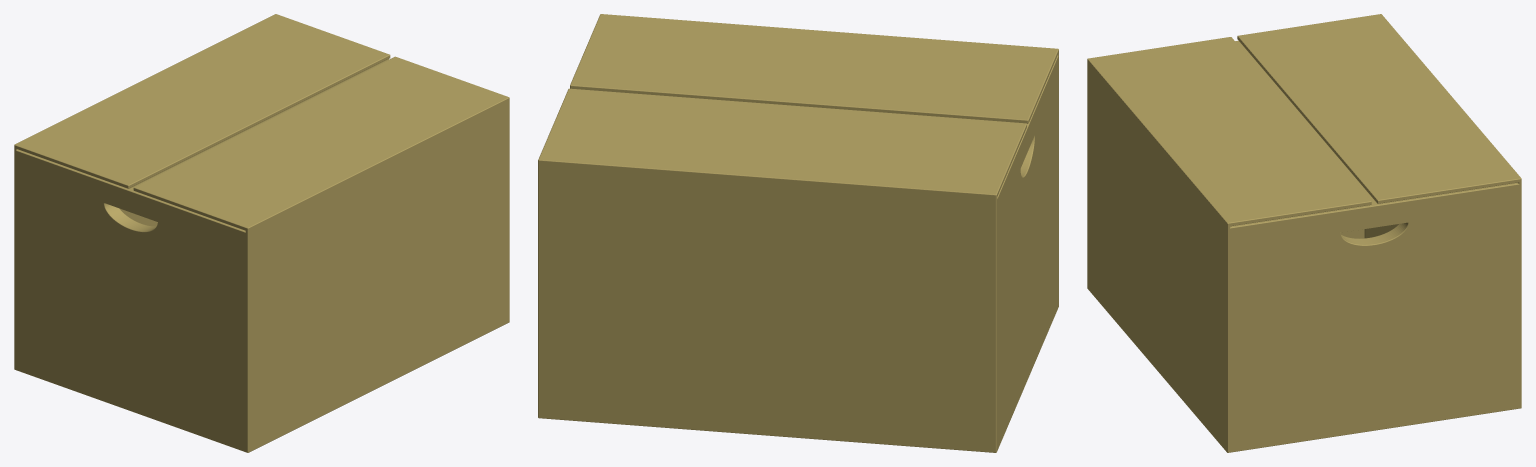
3 views of the same model, side by side, from view 1: azimuth 30°, elevation 25°; view 2: azimuth 150°, elevation 25°; view 3: azimuth 270°, elevation 25° (orthographic). The views are drawn at different scales.
Parts seen in each view (by area): view 1: Cube.178; view 2: Cube.178; view 3: Cube.178.
Boxes of the visible parts, <box> form: Cube.178: <box>14,14,509,452</box>; Cube.178: <box>538,14,1058,452</box>; Cube.178: <box>1087,14,1521,452</box>.
Bounding box in the file's own units: 144 × 73.65 × 126.
